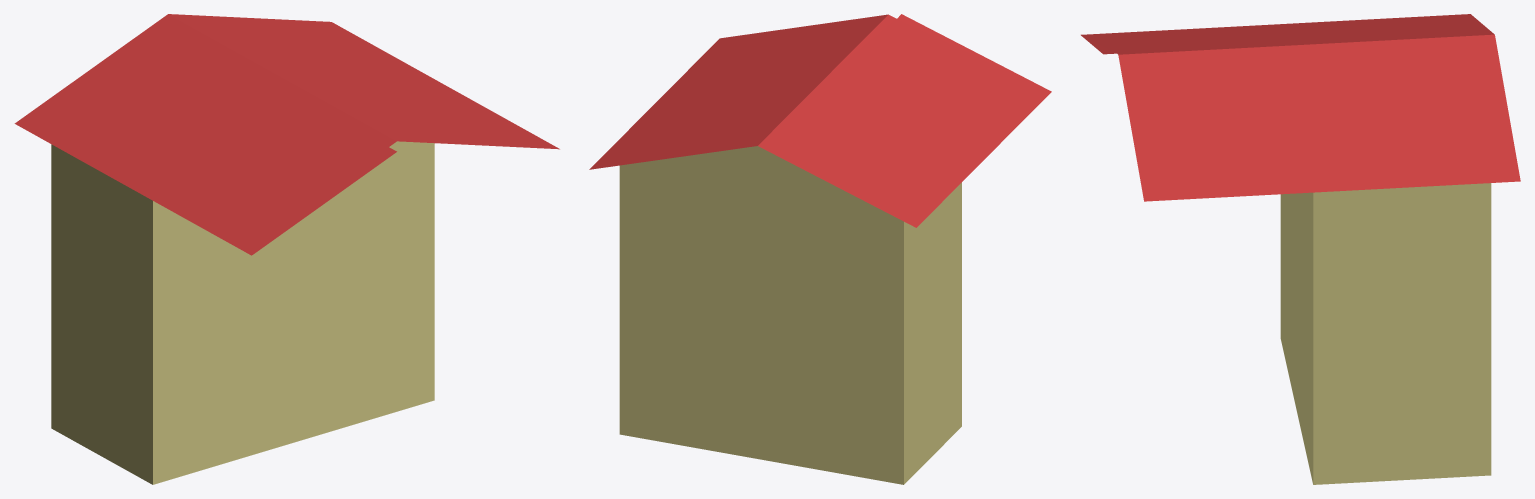
The picture shows the model from 3 angles, left to right: view 1: azimuth 30°, elevation 25°; view 2: azimuth 150°, elevation 25°; view 3: azimuth 270°, elevation 25°; orthographic projection. The views are drawn at different scales.
Size of the model in its own units: 8.4 by 8.33 by 7.6.
